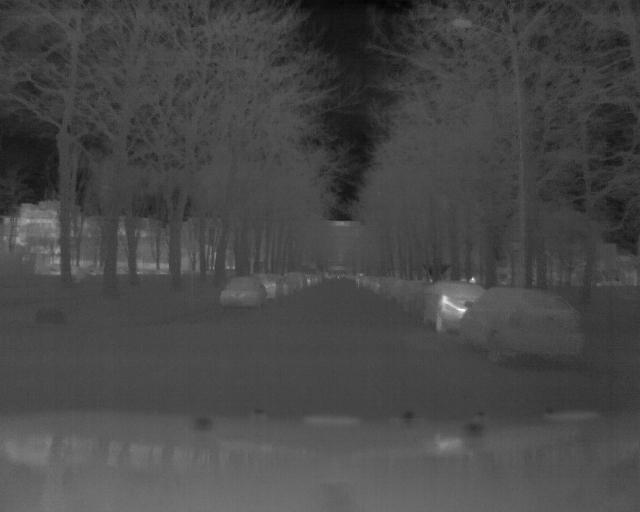car: (459, 286, 585, 366), (425, 277, 497, 334), (220, 277, 267, 307)
